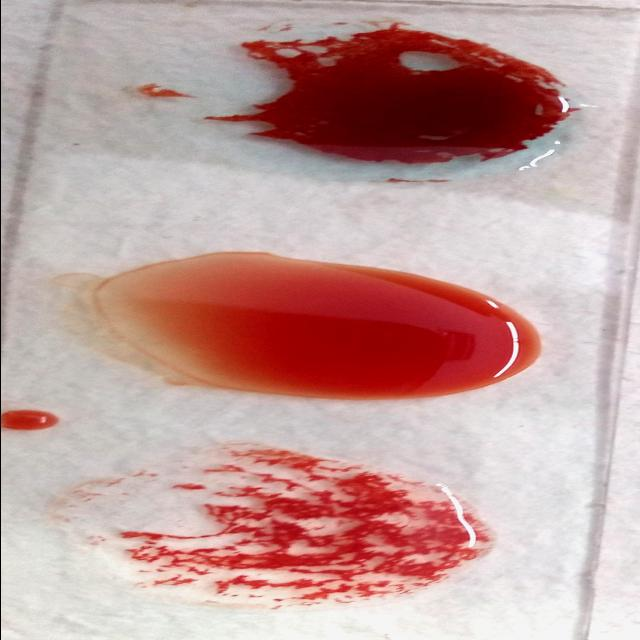A: (126, 28, 586, 174)
D: (56, 456, 486, 601)
